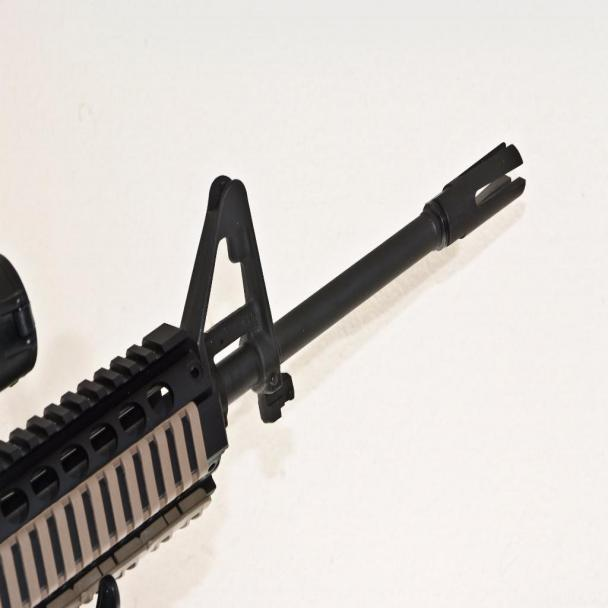Gun: (0, 132, 544, 607)
